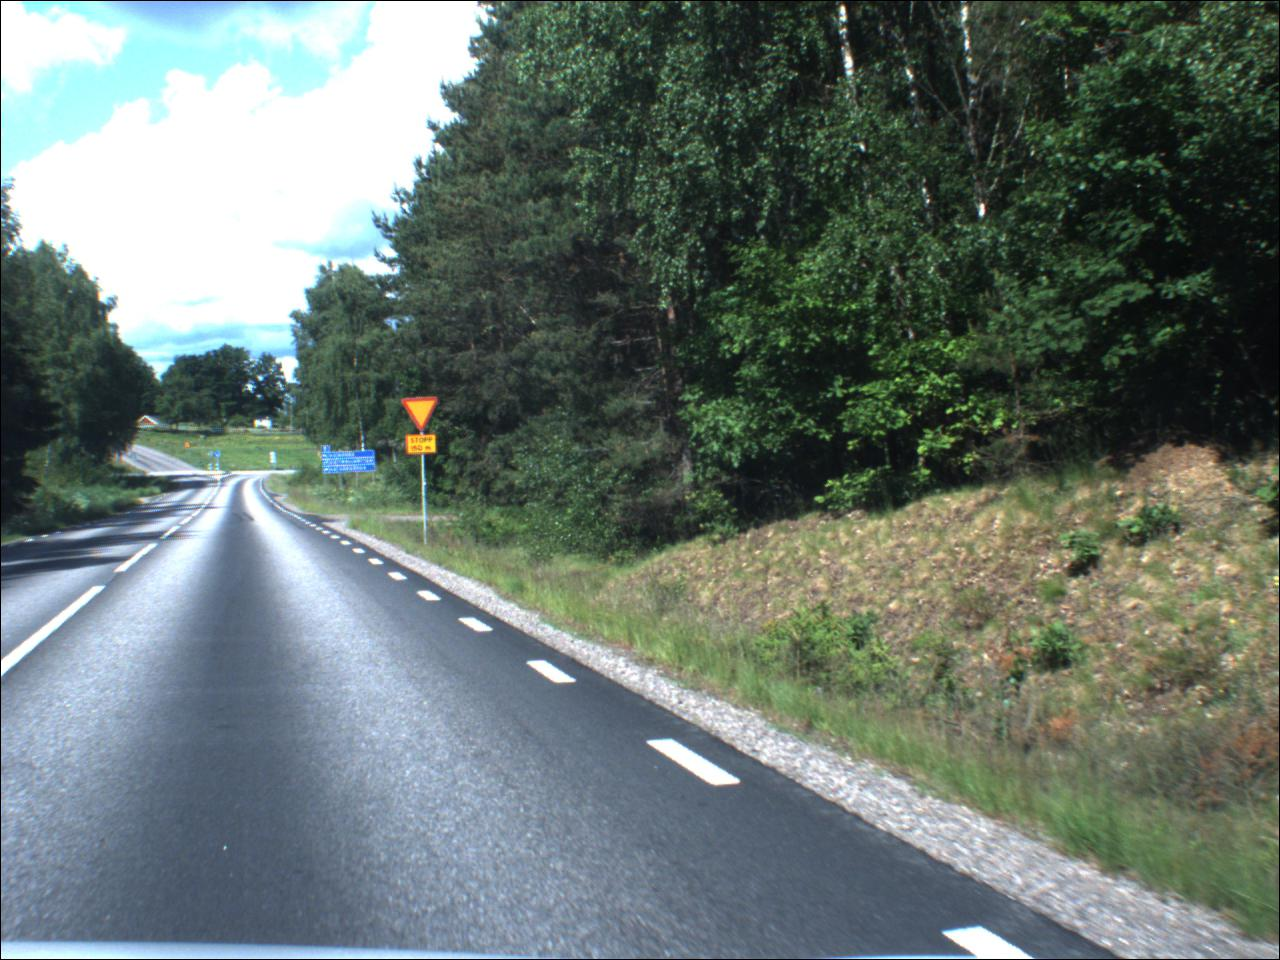GIVE_WAY: (401, 399, 441, 434)
